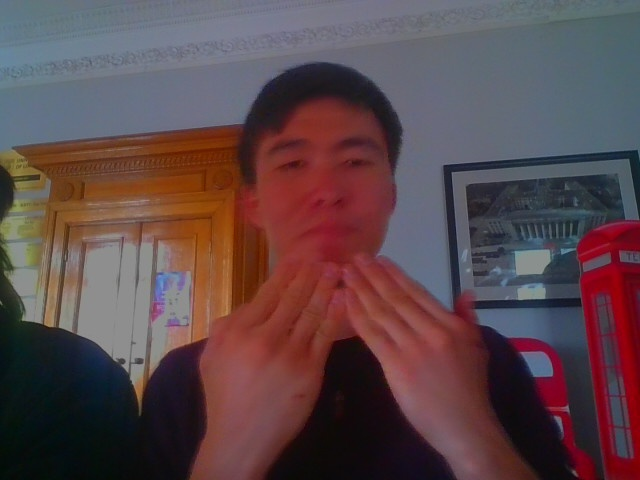thanks: (194, 250, 568, 428)
